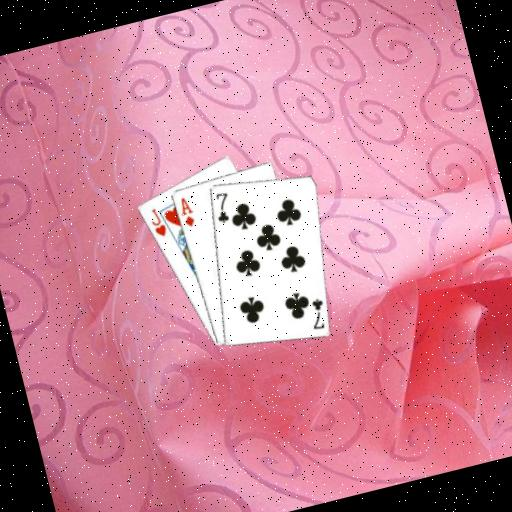7C: (303, 294, 331, 333), (208, 188, 236, 226)
AD: (174, 193, 198, 230)
JH: (145, 204, 170, 241)
